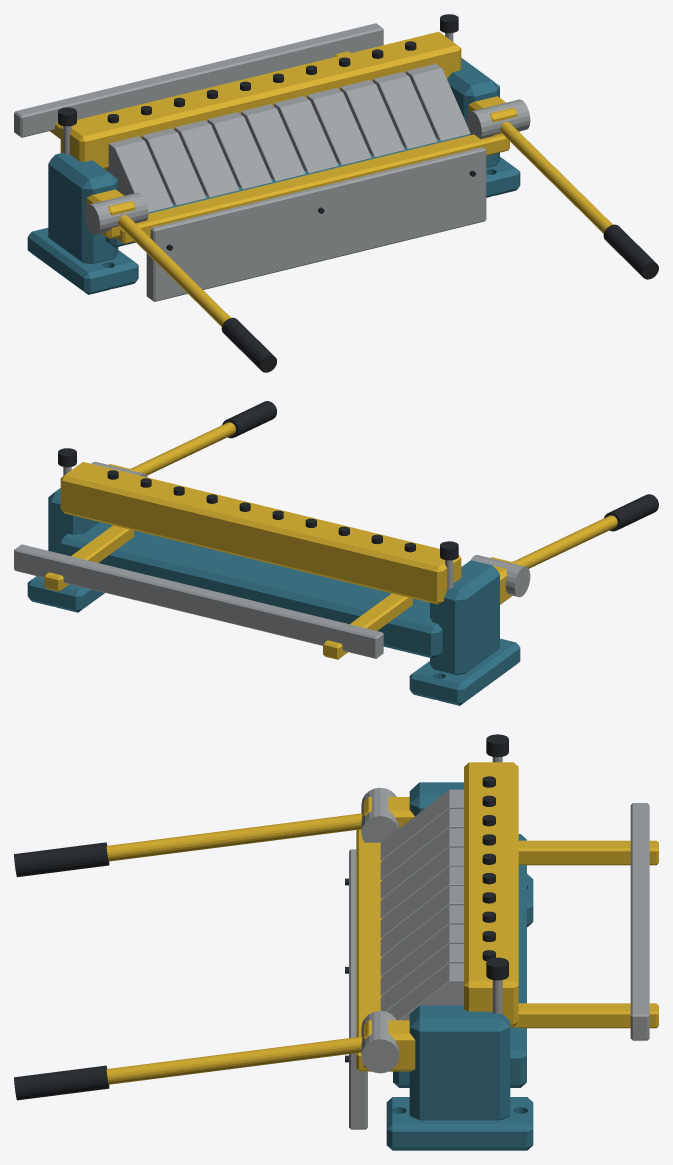
Rendered from full.glb.
The picture shows the model from 3 angles, top to bottom: view 1: azimuth 30°, elevation 25°; view 2: azimuth 150°, elevation 25°; view 3: azimuth 270°, elevation 25°; orthographic projection. The views are drawn at different scales.
Visible parts, largest first — view 1: Long bending apron, Upper clamp beam, Rear stock fence, Apron upper edge, End bearing casting -0.63, Mounting foot -0.63, Segmented clamp finger 0, Segmented clamp finger 1, Segmented clamp finger 2, Segmented clamp finger 3, Segmented clamp finger 5, Segmented clamp finger 7 (+15 smaller); view 2: Upper clamp beam, Fixed long bed, Rear stock fence, End bearing casting -0.63, Mounting foot -0.63, Mounting foot 0.63, Rear support arm -0.46, Rear support arm 0.46, Long twin lever -0.63, Long twin lever 0.63, End bearing casting 0.63, Long grip -0.63 (+2 smaller); view 3: Upper clamp beam, End bearing casting 0.63, Mounting foot 0.63, Rear stock fence, Apron upper edge, Long twin lever -0.63, Long twin lever 0.63, Rear support arm 0.46, Rear support arm -0.46, Long bending apron, Fixed long bed, Long grip 0.63 (+16 smaller).
Part boxes in pixels (left/top/right/bottom): Long bending apron: left=146, top=147, right=486, bottom=301; Upper clamp beam: left=60, top=31, right=461, bottom=169; Rear stock fence: left=14, top=23, right=383, bottom=137; Apron upper edge: left=116, top=134, right=509, bottom=244; End bearing casting -0.63: left=48, top=152, right=118, bottom=263; Mounting foot -0.63: left=27, top=227, right=138, bottom=294; Segmented clamp finger 0: left=106, top=136, right=173, bottom=212; Segmented clamp finger 1: left=141, top=128, right=206, bottom=205; Segmented clamp finger 2: left=174, top=120, right=239, bottom=197; Segmented clamp finger 3: left=207, top=112, right=272, bottom=189; Segmented clamp finger 5: left=274, top=96, right=338, bottom=173; Segmented clamp finger 7: left=340, top=80, right=404, bottom=157; Upper clamp beam: left=60, top=462, right=461, bottom=604; Fixed long bed: left=59, top=522, right=442, bottom=658; Rear stock fence: left=14, top=544, right=383, bottom=658; End bearing casting -0.63: left=430, top=560, right=499, bottom=674; Mounting foot -0.63: left=409, top=638, right=520, bottom=705; Mounting foot 0.63: left=27, top=576, right=104, bottom=612; Rear support arm -0.46: left=323, top=593, right=412, bottom=659; Rear support arm 0.46: left=44, top=525, right=133, bottom=591; Long twin lever -0.63: left=513, top=515, right=617, bottom=568; Long twin lever 0.63: left=131, top=422, right=235, bottom=475; End bearing casting 0.63: left=48, top=488, right=99, bottom=553; Long grip -0.63: left=604, top=494, right=658, bottom=531; Upper clamp beam: left=464, top=762, right=518, bottom=1026; End bearing casting 0.63: left=409, top=1005, right=510, bottom=1120; Mounting foot 0.63: left=386, top=1097, right=533, bottom=1150; Rear stock fence: left=630, top=803, right=649, bottom=1040; Apron upper edge: left=356, top=829, right=382, bottom=1071; Long twin lever -0.63: left=106, top=813, right=362, bottom=861; Long twin lever 0.63: left=106, top=1036, right=362, bottom=1084; Rear support arm 0.46: left=510, top=1003, right=658, bottom=1028; Rear support arm -0.46: left=518, top=840, right=658, bottom=865; Long bending apron: left=349, top=849, right=367, bottom=1129; Fixed long bed: left=393, top=834, right=526, bottom=1087; Long grip 0.63: left=14, top=1065, right=109, bottom=1100.
Bounding box in the file's own units: 1.44 × 0.48 × 1.54.
